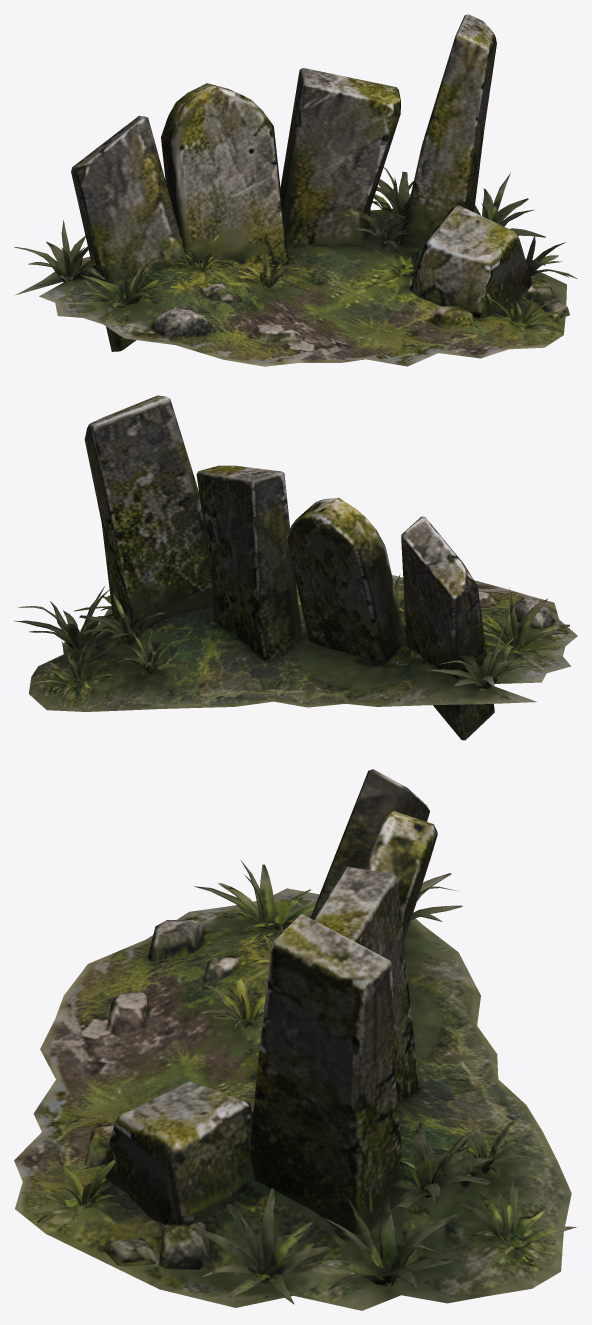
Rendered from act1_kit_v1_headstones.glb.
The picture shows the model from 3 angles, top to bottom: view 1: azimuth 30°, elevation 25°; view 2: azimuth 150°, elevation 25°; view 3: azimuth 270°, elevation 25°; orthographic projection. The views are drawn at different scales.
Visible parts, largest first — view 1: act1_kit_v1_headstones; view 2: act1_kit_v1_headstones; view 3: act1_kit_v1_headstones.
Boxes of the visible parts, x1=… form: act1_kit_v1_headstones: x1=14, y1=14, x2=577, y2=366; act1_kit_v1_headstones: x1=14, y1=395, x2=577, y2=740; act1_kit_v1_headstones: x1=14, y1=769, x2=576, y2=1310.
Size of the model in its own units: 1 by 0.4677 by 0.696.
1 material, 1 textured.
